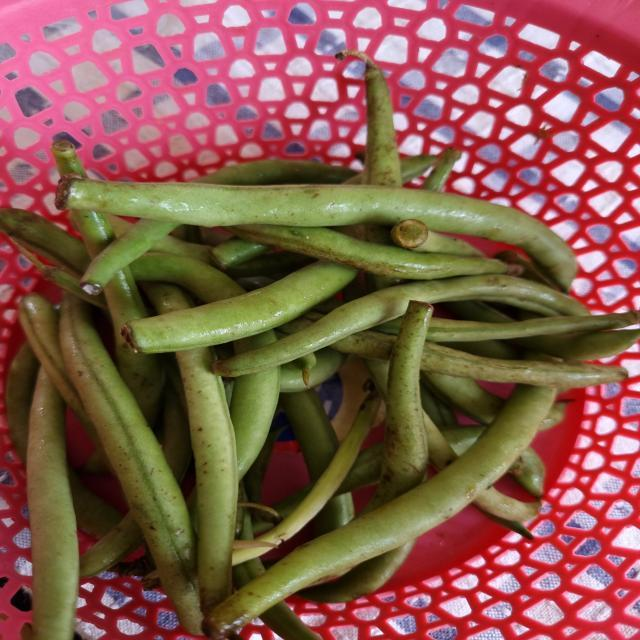Beans: (203, 385, 556, 640), (54, 176, 578, 290), (58, 293, 202, 635), (121, 260, 357, 353), (25, 369, 78, 640)
